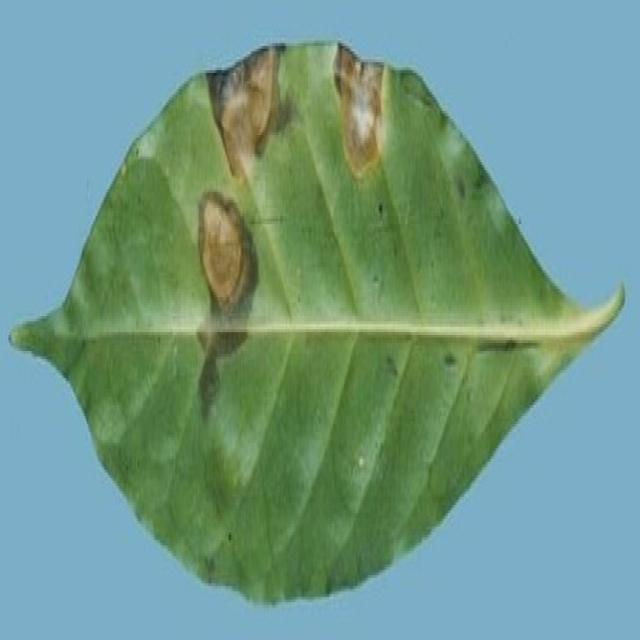Enfermedad-Mancha-de-hierro: (7, 41, 627, 610)
